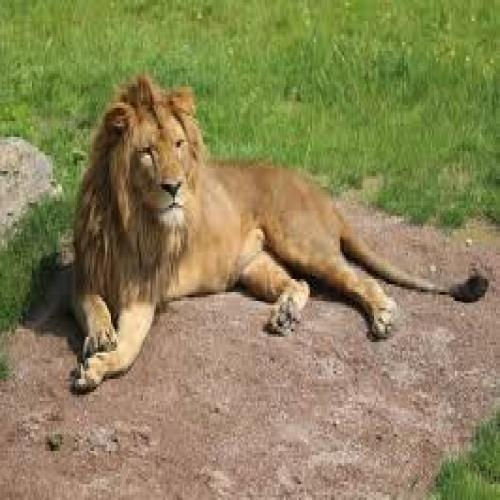lion-endangered: (69, 75, 396, 393)
